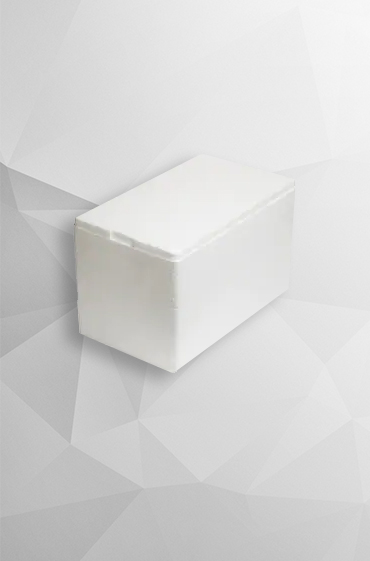Foam Box: (66, 140, 293, 376)
